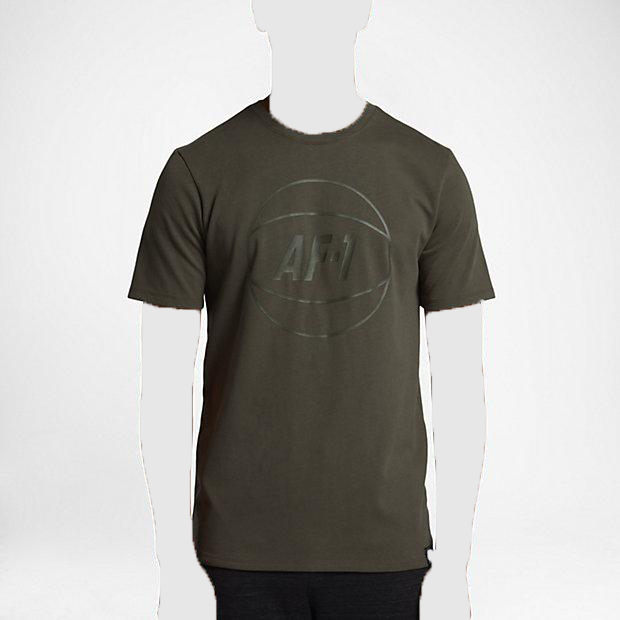teeshirt: (127, 92, 498, 574)
